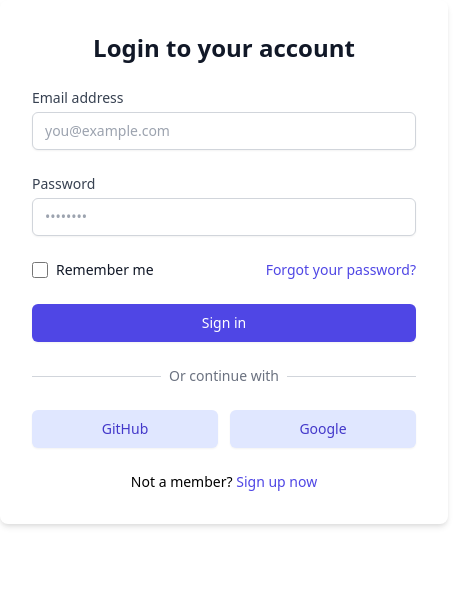
Test: LoginView.vue › displays error message from authStore on login failure
In the field with id "email": (224, 131) [32,112,416,150], type "test@example.com"
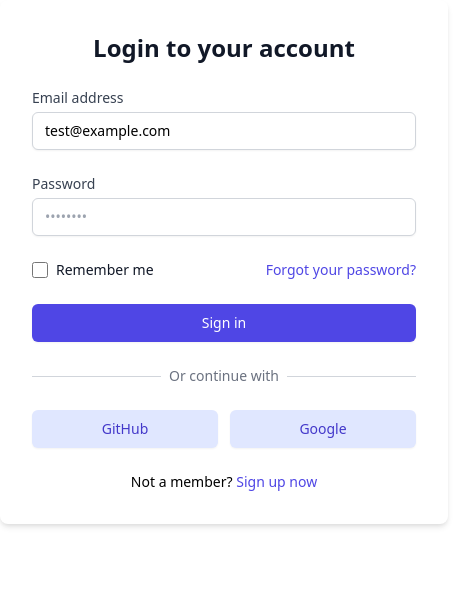
In the password field labelled "Password": (224, 217) [32,198,416,236], type "wrongpassword"
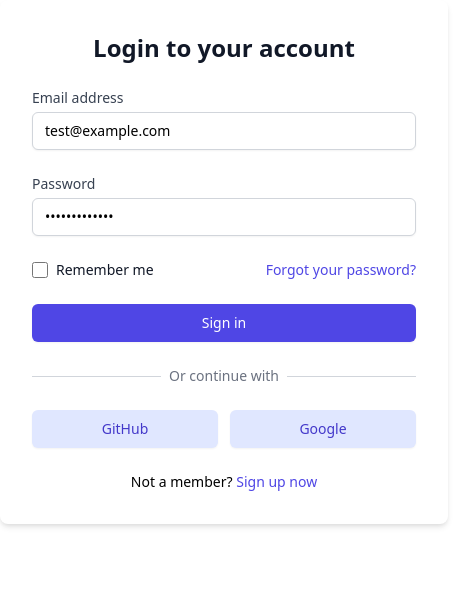
Submit the form, box [32,88,416,342]
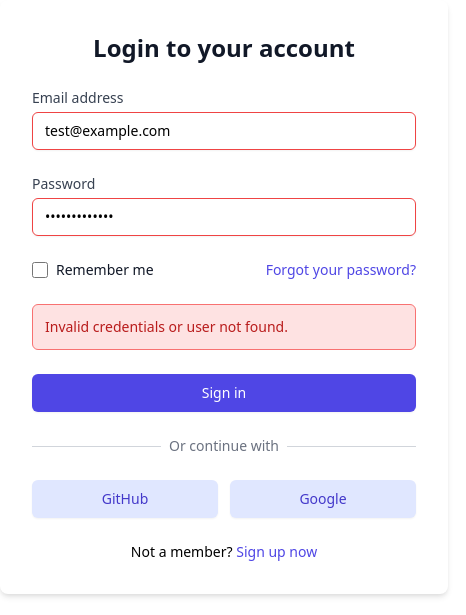
Result: the text "Invalid credentials or user not found." is shown at [32,304,416,350]
